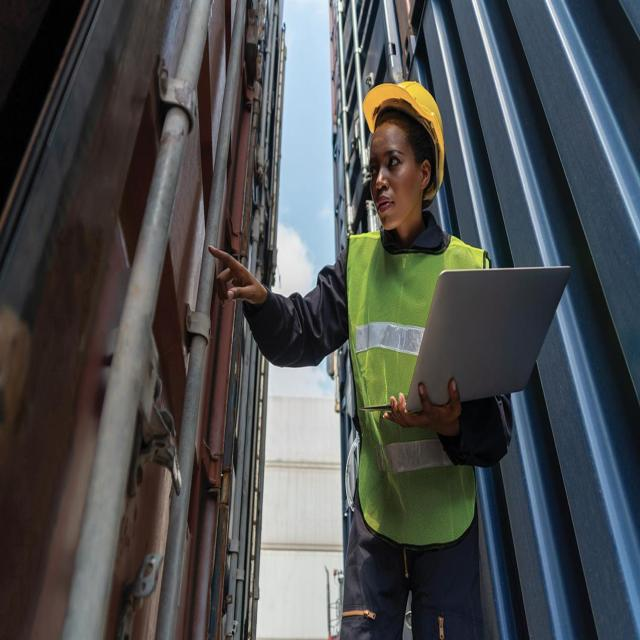helmet: (360, 79, 447, 206)
vest: (349, 226, 487, 552)
